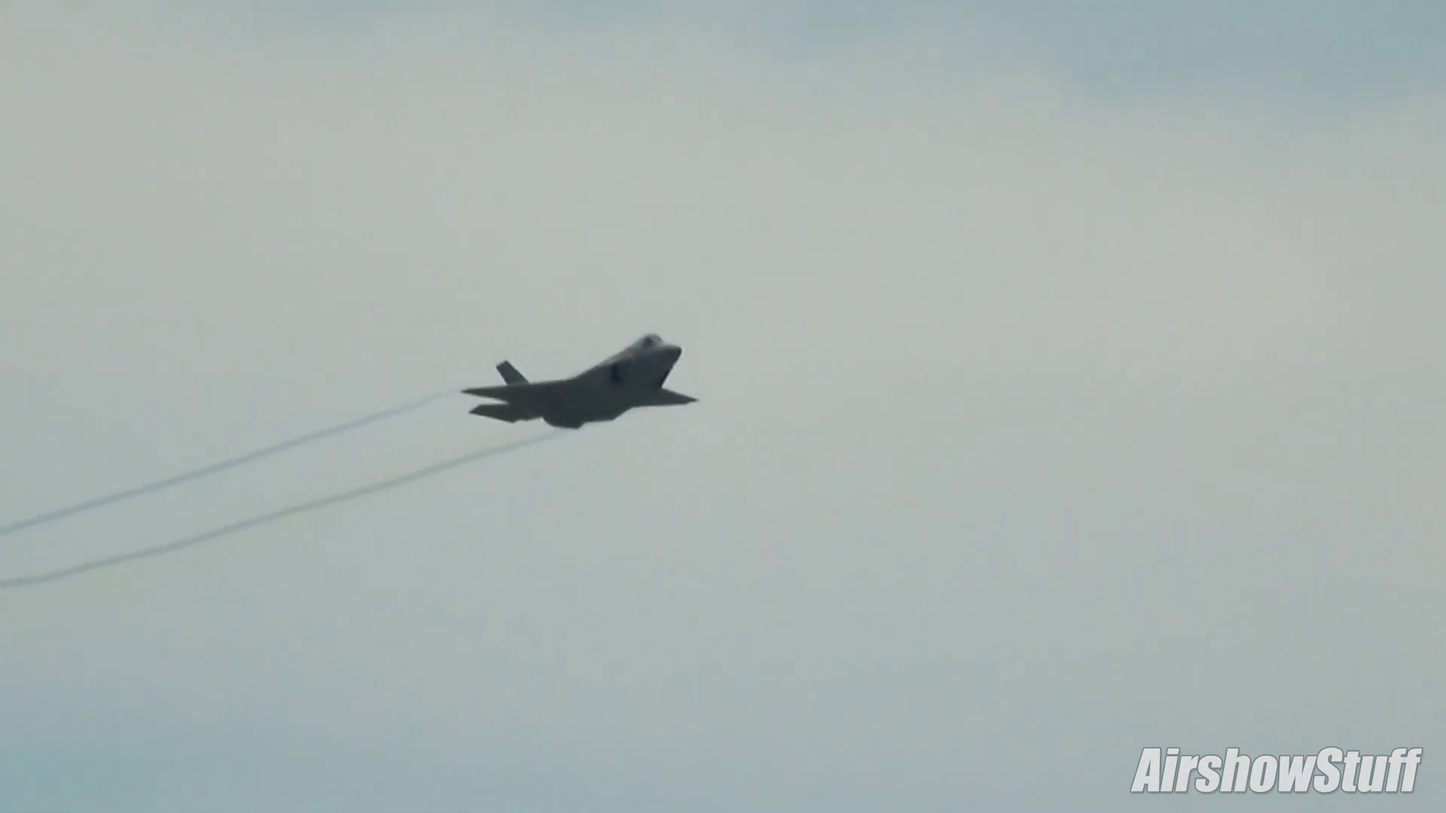F35: (456, 321, 705, 440)
